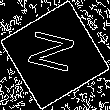N_E: (26, 29, 84, 81)
